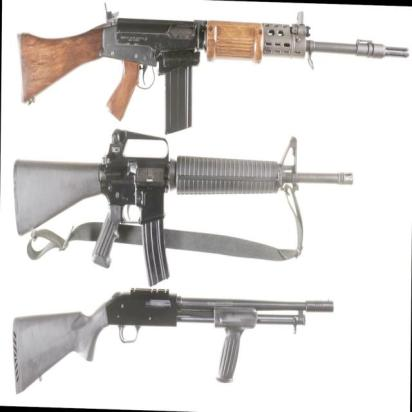Gun: (5, 127, 366, 279), (16, 6, 399, 136), (12, 286, 339, 407)
